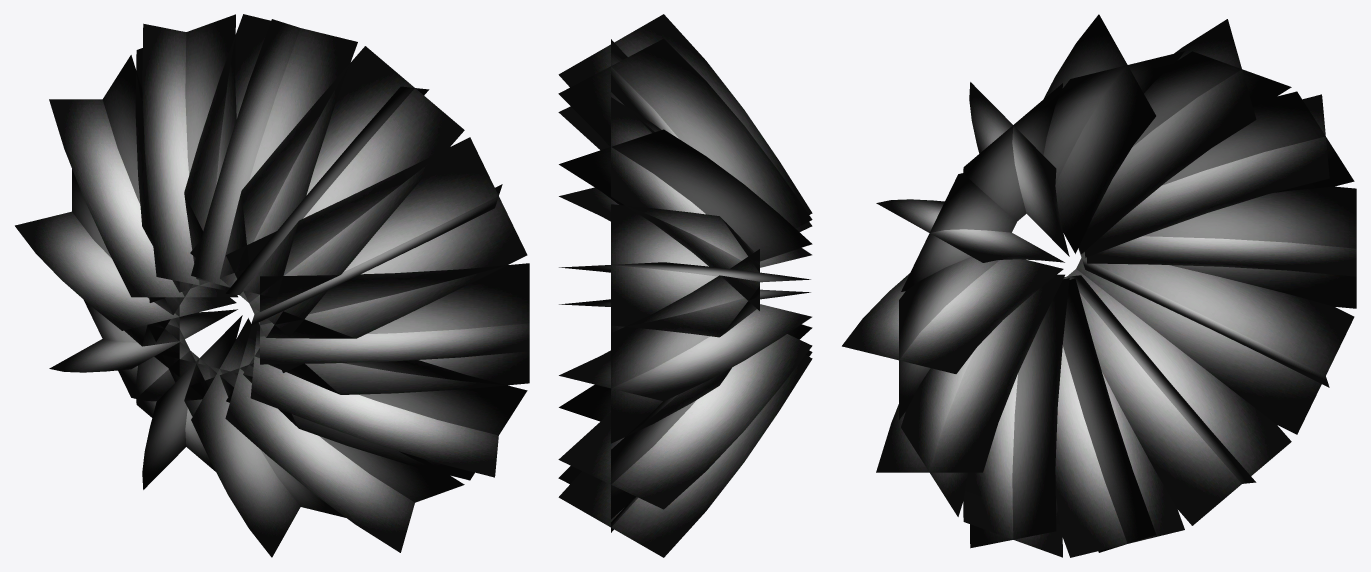
File: vfx_kurp_0558.dae
The picture shows the model from 3 angles, left to right: view 1: azimuth 30°, elevation 25°; view 2: azimuth 150°, elevation 25°; view 3: azimuth 270°, elevation 25°; orthographic projection. The views are drawn at different scales.
Visible parts, largest first — view 1: vfx_kurp_0558; view 2: vfx_kurp_0558; view 3: vfx_kurp_0558.
Boxes of the visible parts, left/top/right/bottom form: vfx_kurp_0558: left=15, top=14, right=529, bottom=557; vfx_kurp_0558: left=558, top=14, right=812, bottom=557; vfx_kurp_0558: left=842, top=14, right=1356, bottom=557.
Size of the model in its own units: 5.71 by 7.44 by 8.59.
1 material, 1 textured.
